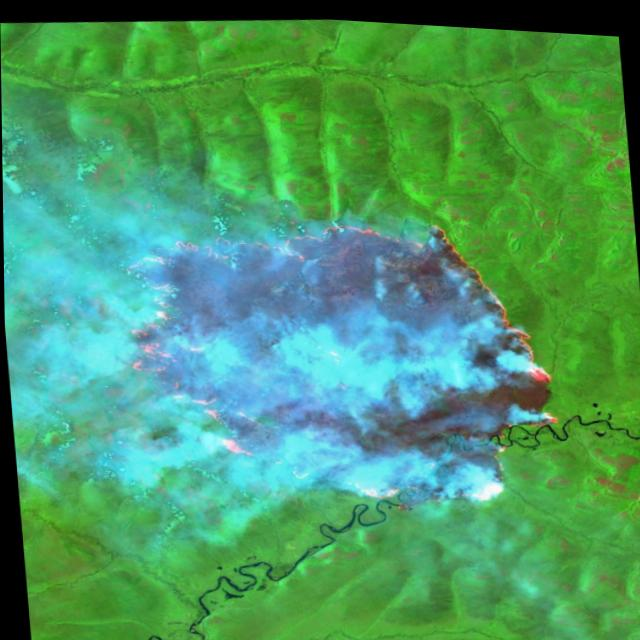fire: (110, 182, 568, 538)
